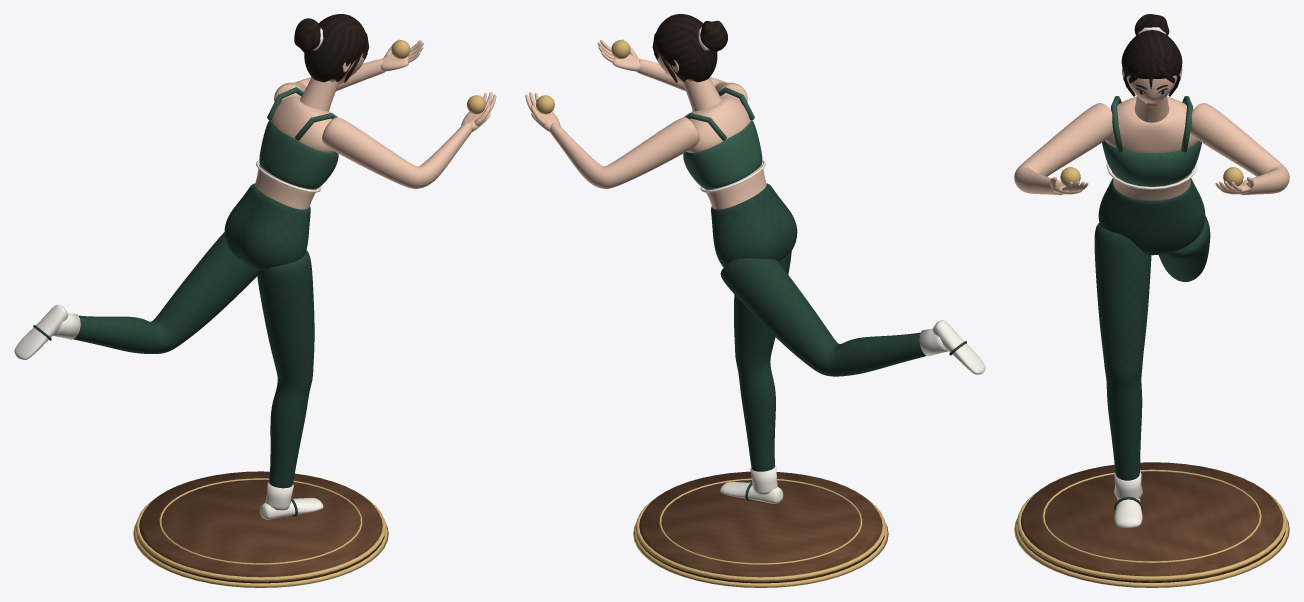
The model's file is practitioner-studio-rig.glb.
3 renders of one model, left to right at view 1: azimuth 30°, elevation 25°; view 2: azimuth 150°, elevation 25°; view 3: azimuth 270°, elevation 25°, orthographic. The views are drawn at different scales.
Visible parts, largest first — view 1: SM_Studio_Dielectric, SM_Studio_Metallic; view 2: SM_Studio_Dielectric, SM_Studio_Metallic; view 3: SM_Studio_Dielectric, SM_Studio_Metallic.
Boxes of the visible parts, x1=… form: SM_Studio_Dielectric: x1=14, y1=14, x2=496, y2=583; SM_Studio_Metallic: x1=133, y1=40, x2=485, y2=587; SM_Studio_Dielectric: x1=525, y1=14, x2=985, y2=583; SM_Studio_Metallic: x1=536, y1=40, x2=888, y2=587; SM_Studio_Dielectric: x1=1014, y1=14, x2=1289, y2=582; SM_Studio_Metallic: x1=1014, y1=167, x2=1289, y2=587.
Size of the model in its own units: 1.41 by 1.57 by 0.724.
2 materials, 2 textured.
